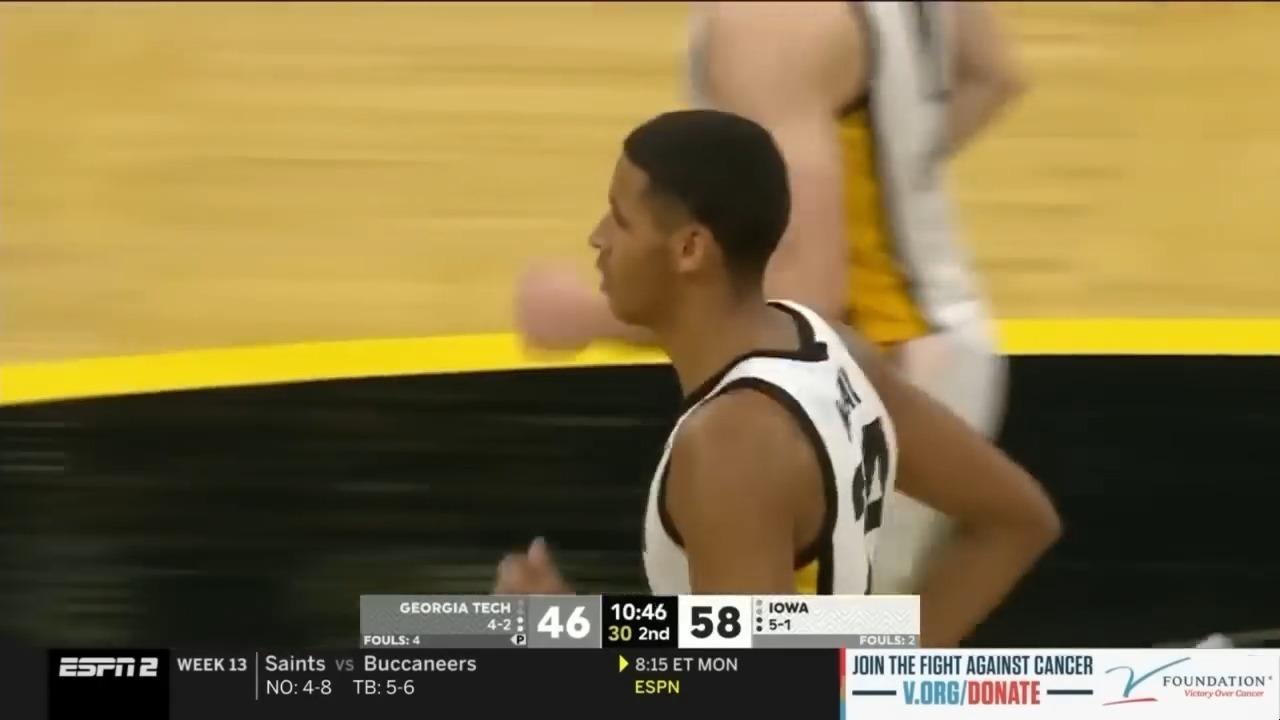basketball-player: (490, 5, 1069, 647), (474, 103, 1069, 720)
